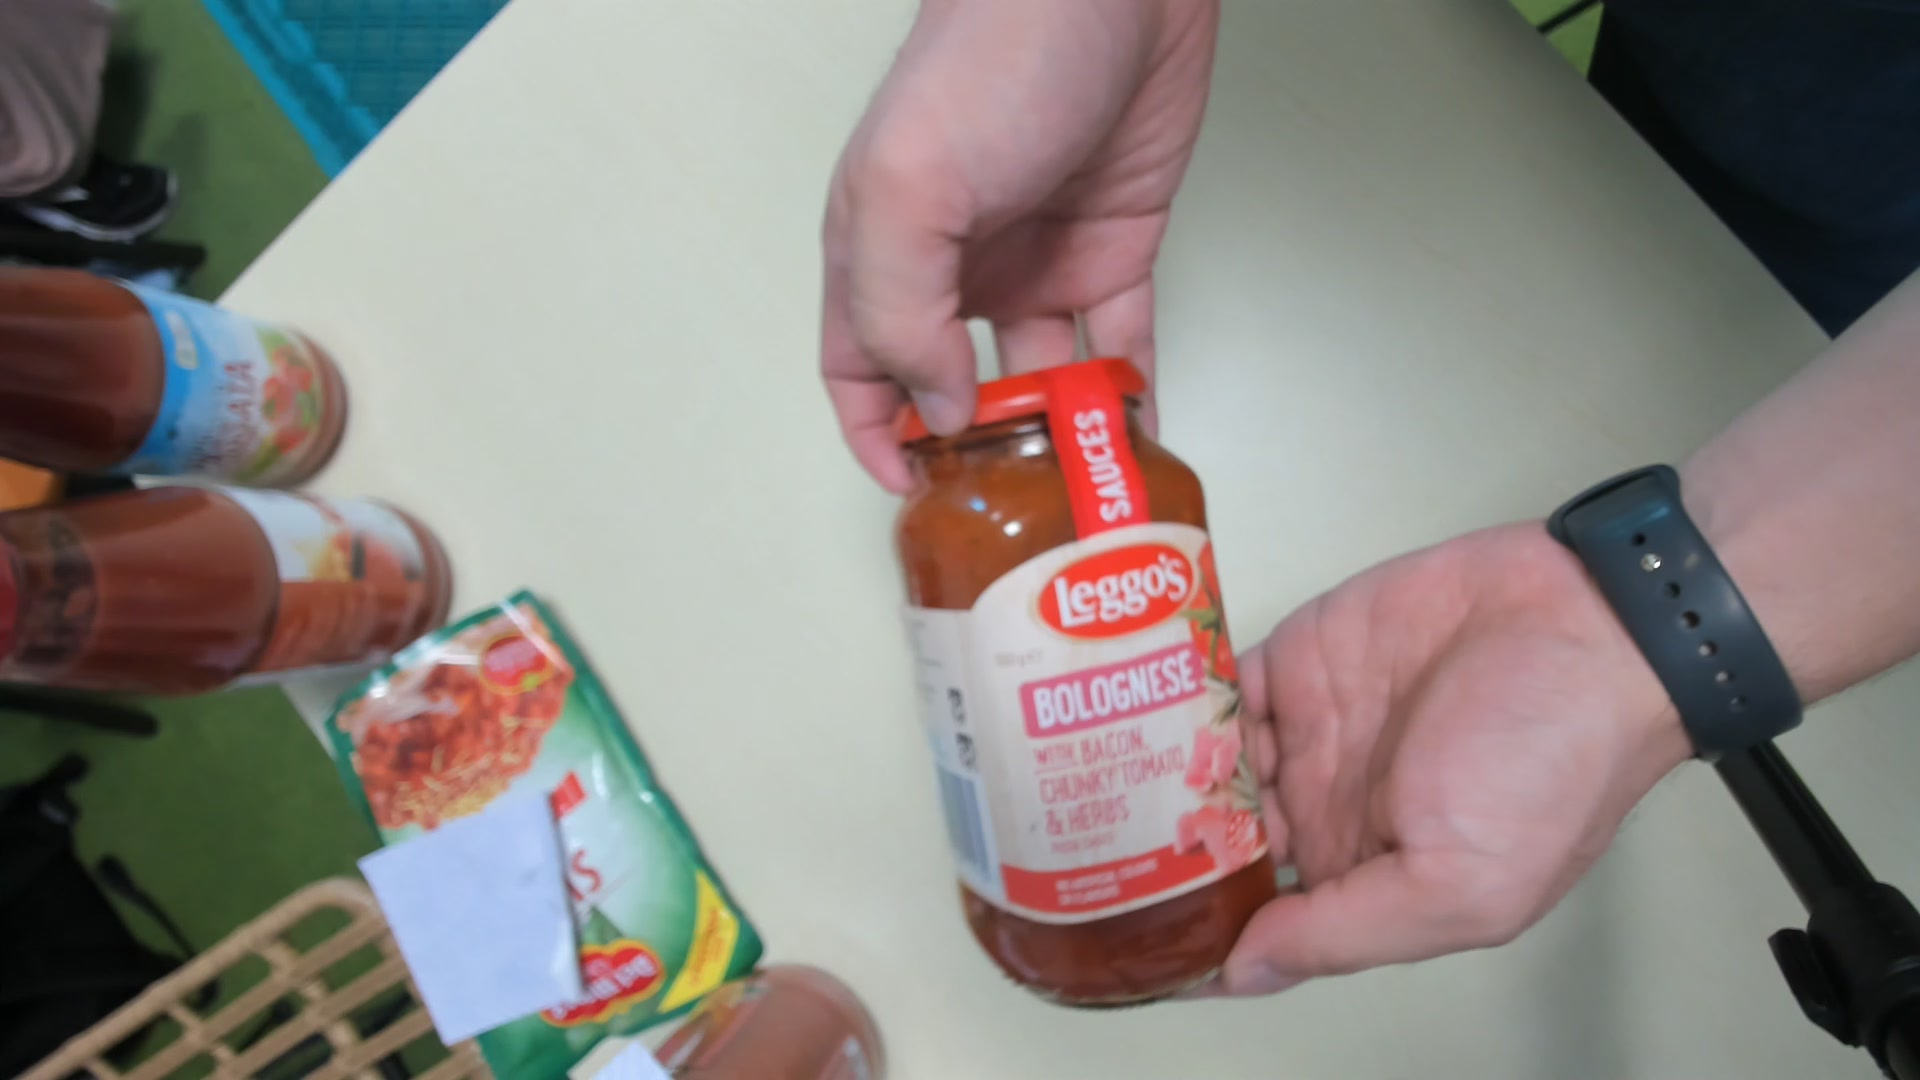PastaSauce_500-599g_Halal_NonHealthy: (895, 363, 1274, 1000)
